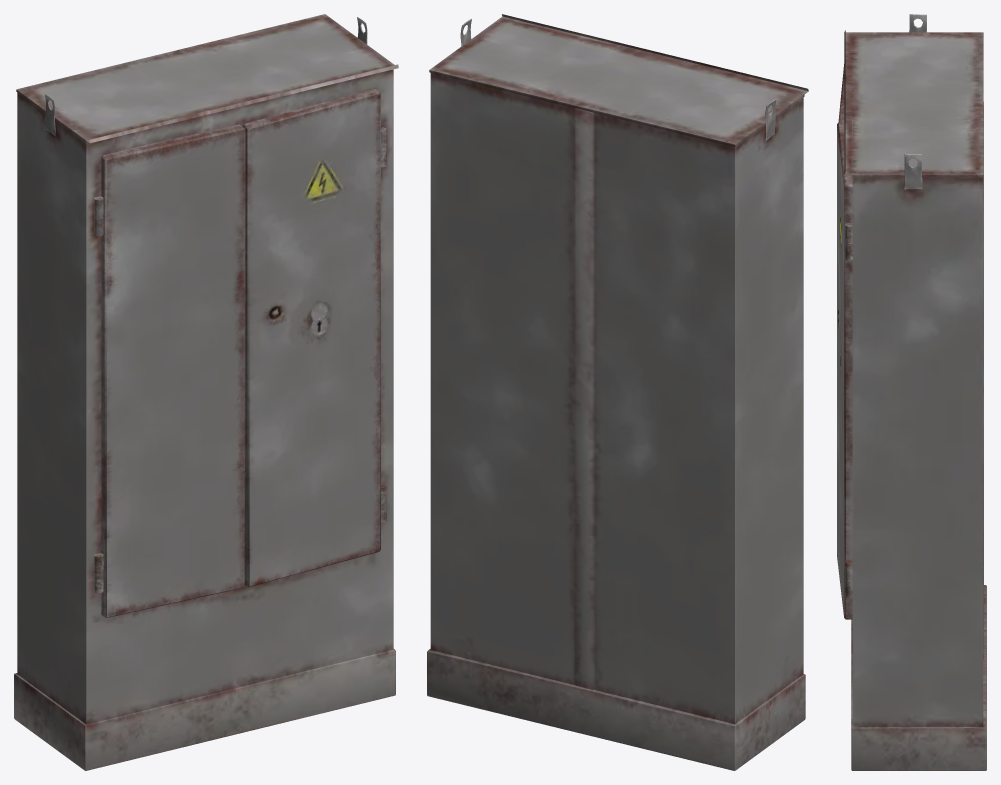
File: scene-transformer.glb
3 renders of one model, left to right at view 1: azimuth 30°, elevation 25°; view 2: azimuth 150°, elevation 25°; view 3: azimuth 270°, elevation 25°, orthographic. The views are drawn at different scales.
Visible parts, largest first — view 1: base; view 2: base; view 3: base.
Part boxes in pixels (x1=…): base: x1=14, y1=14, x2=398, y2=770; base: x1=427, y1=14, x2=808, y2=770; base: x1=837, y1=14, x2=986, y2=770.
Size of the model in its own units: 1.61 by 3.2 by 0.7051.
Materials: 4 (4 with a texture image).
